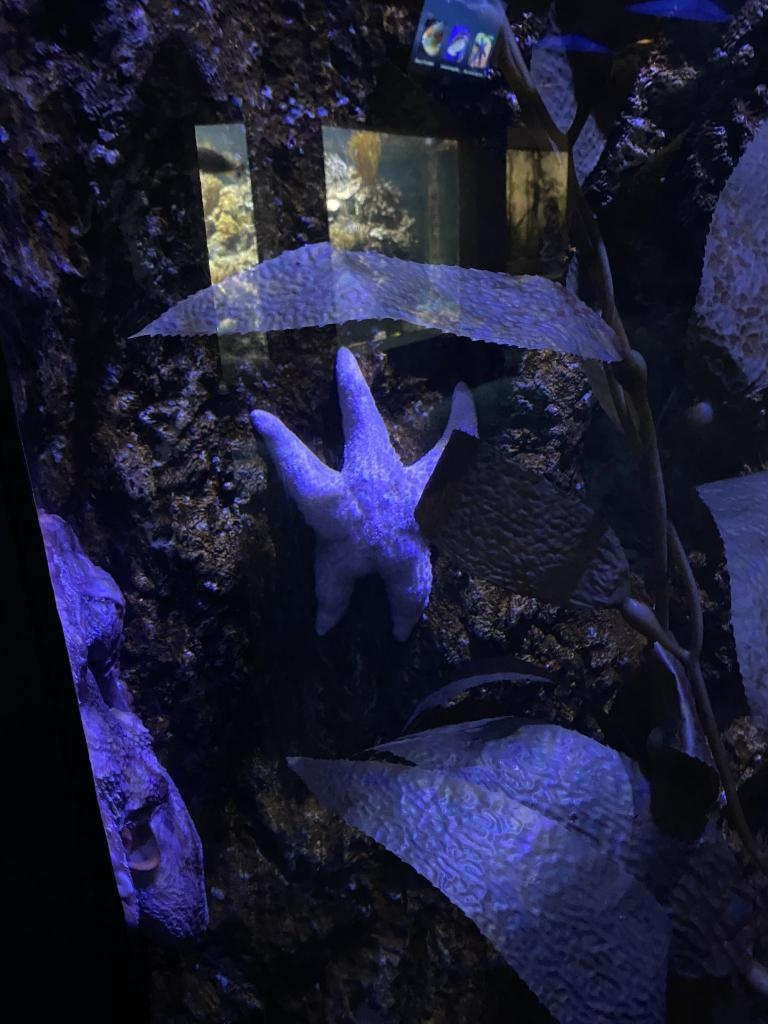starfish: (249, 342, 477, 640)
